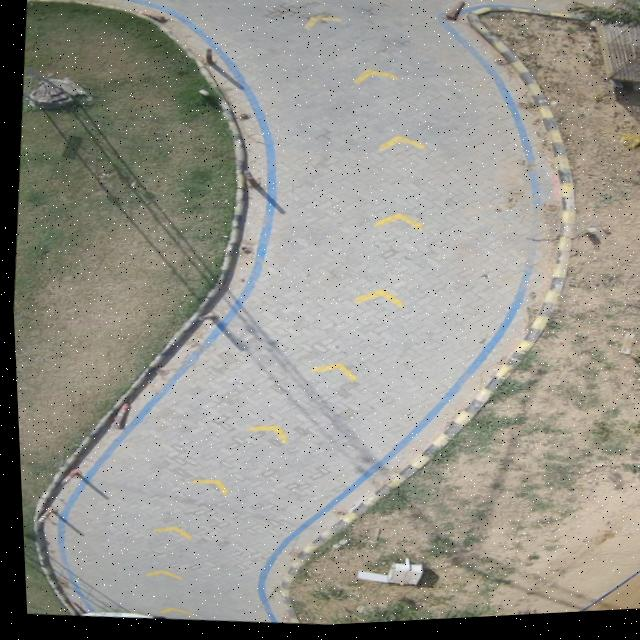car: (75, 611, 160, 618)
